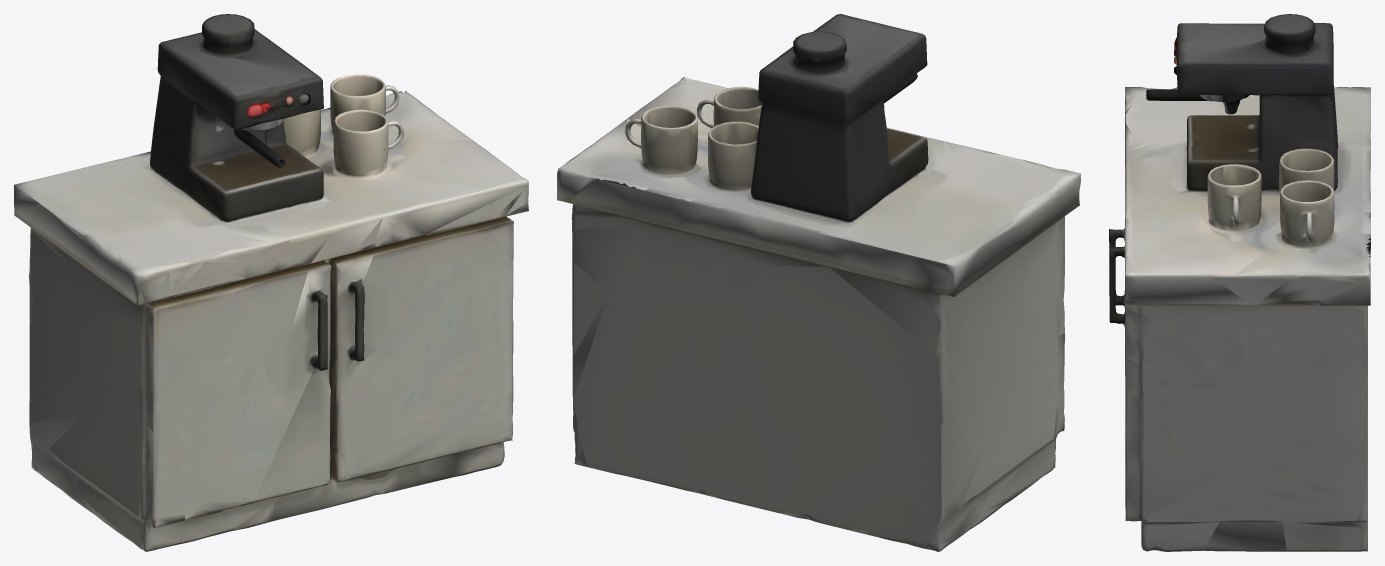
The model's file is coffee.glb.
The picture shows the model from 3 angles, left to right: view 1: azimuth 30°, elevation 25°; view 2: azimuth 150°, elevation 25°; view 3: azimuth 270°, elevation 25°; orthographic projection. The views are drawn at different scales.
Parts seen in each view (by area): view 1: model.001; view 2: model.001; view 3: model.001.
Boxes of the visible parts, x1=… form: model.001: x1=14, y1=14, x2=528, y2=551; model.001: x1=557, y1=14, x2=1080, y2=551; model.001: x1=1109, y1=14, x2=1370, y2=551.
Bounding box in the file's own units: 1.6 × 1.71 × 0.9411.
Materials: 1 (1 with a texture image).
